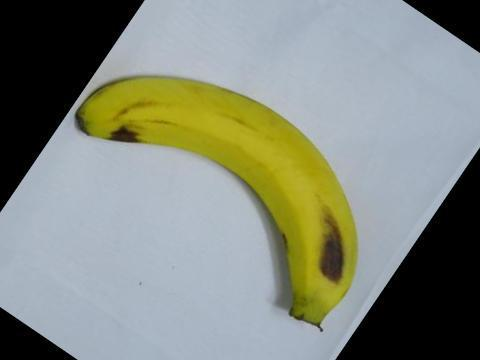freshripe: (70, 64, 378, 343)
